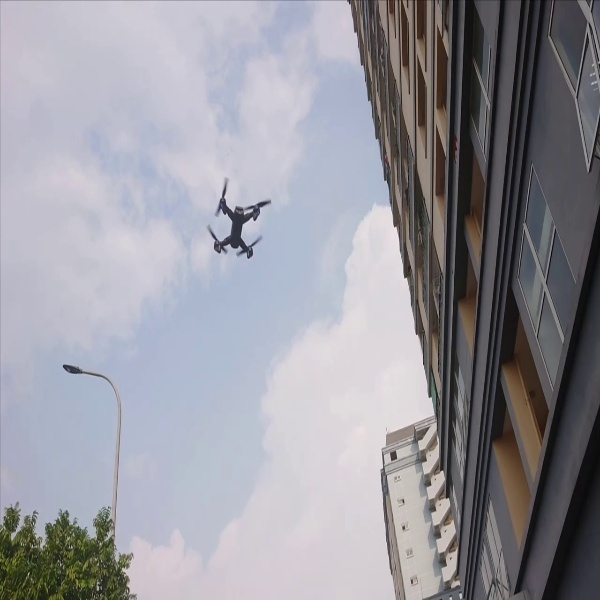drone: (202, 173, 271, 264)
